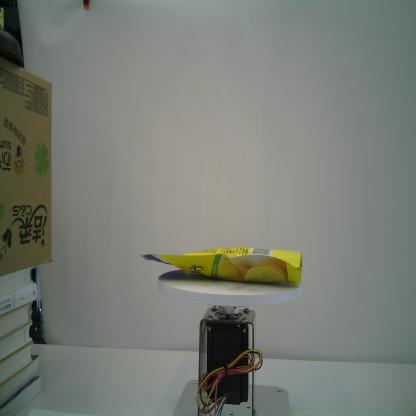Dried Fruit: (141, 245, 303, 284)
